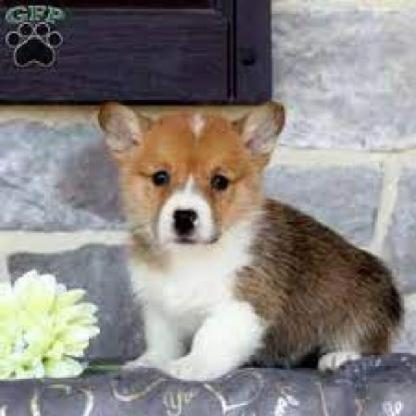dog: (96, 99, 406, 381)
